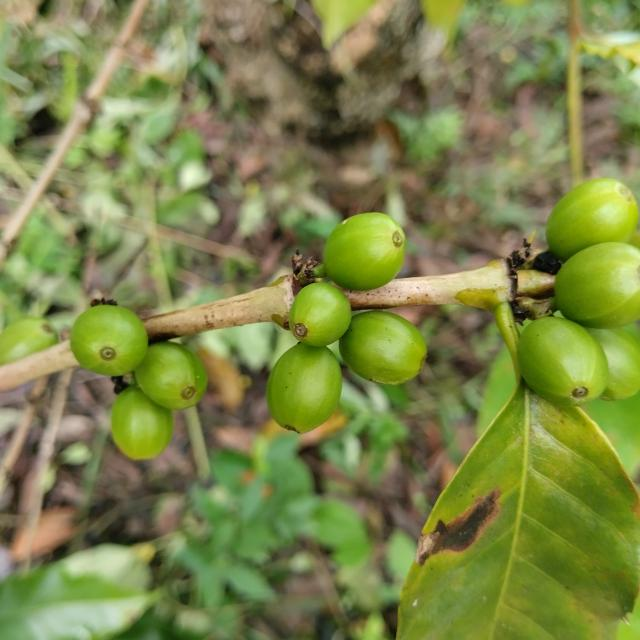green: (519, 317, 610, 407), (547, 178, 640, 261), (555, 242, 640, 329), (266, 343, 342, 434), (339, 311, 427, 385), (324, 212, 406, 290), (69, 305, 148, 376), (134, 342, 207, 410), (110, 386, 173, 460), (289, 282, 352, 347), (588, 328, 640, 401)
